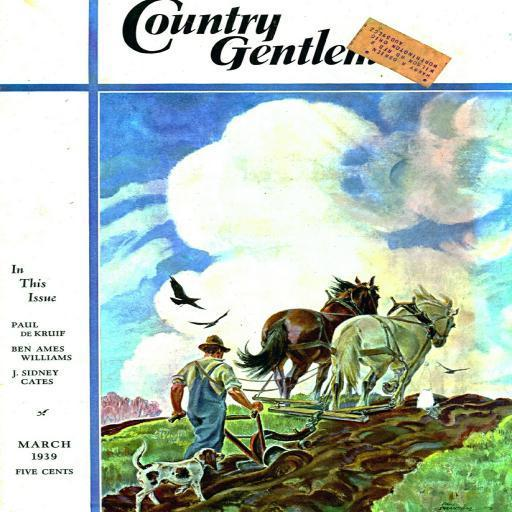horse: (236, 275, 382, 408), (312, 283, 460, 411)
